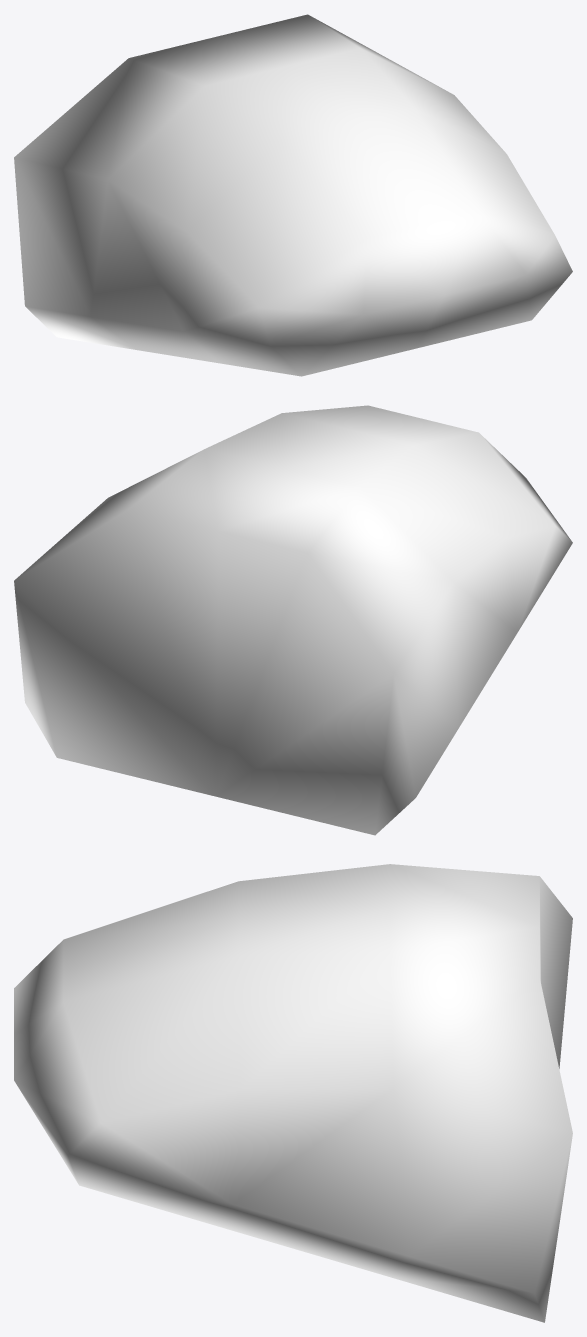
The model's file is thumbj4_left.obj.
3 renders of one model, top to bottom at view 1: azimuth 30°, elevation 25°; view 2: azimuth 150°, elevation 25°; view 3: azimuth 270°, elevation 25°, orthographic. The views are drawn at different scales.
Bounding box in the file's own units: 0.0188 × 0.0129 × 0.0201.
Materials: 1 (1 with a texture image).
